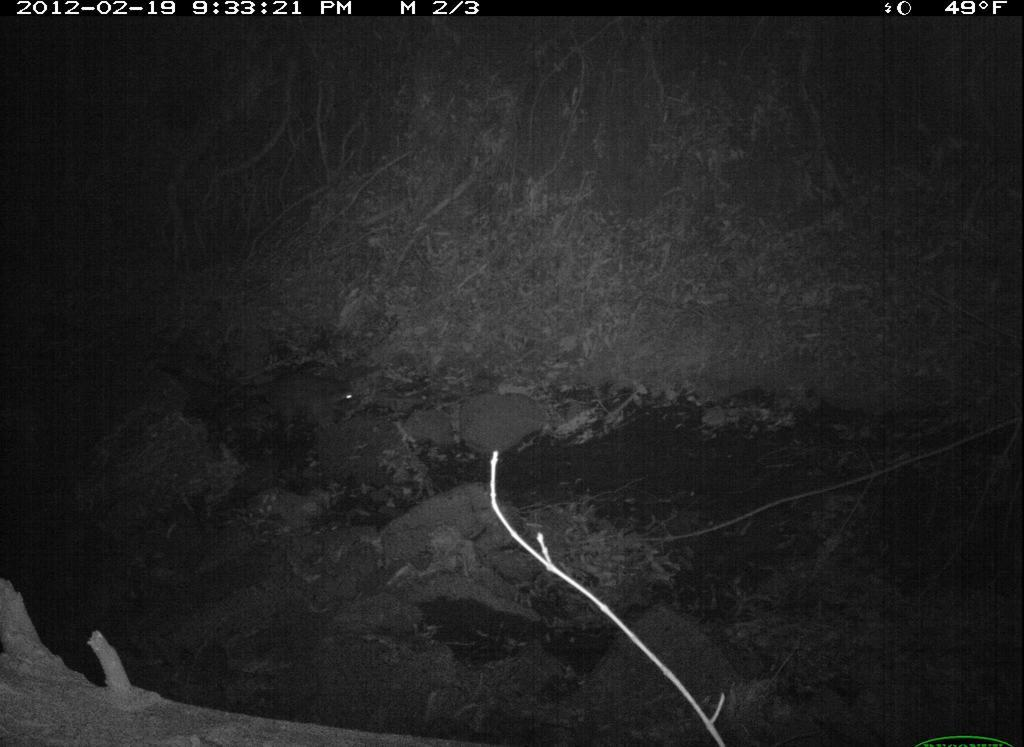raccoon: (200, 341, 382, 452)
